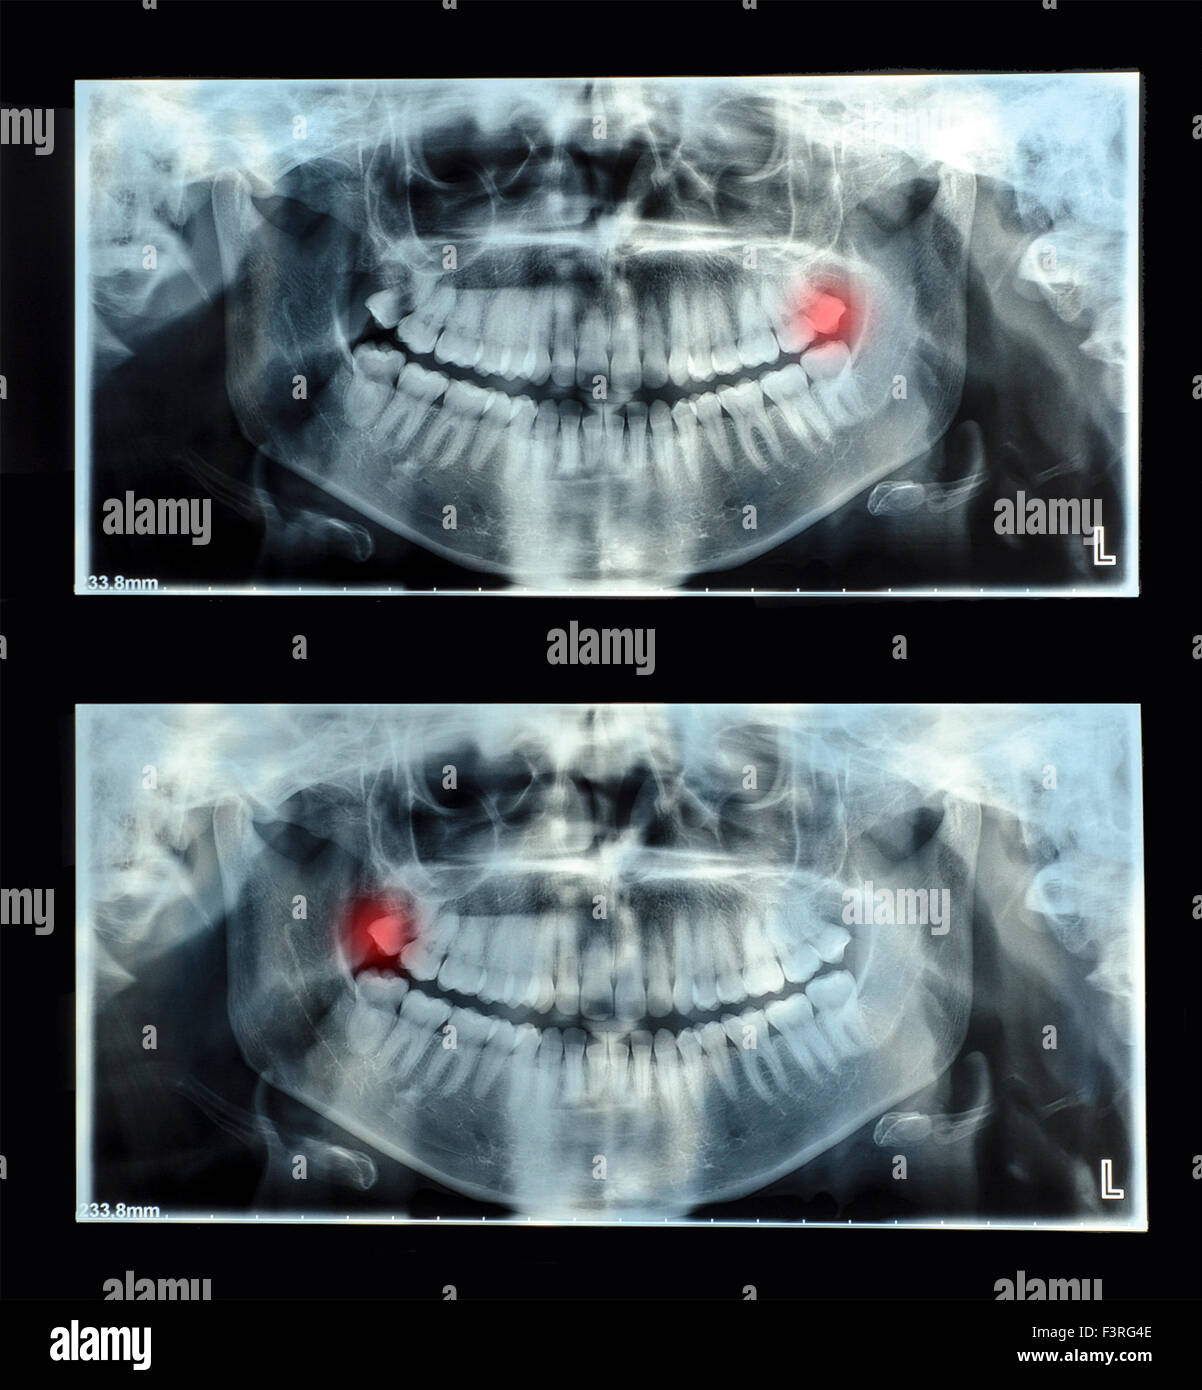canine: (524, 277, 555, 387), (645, 398, 676, 494), (668, 287, 693, 388), (531, 392, 559, 480)
incisor: (573, 254, 609, 400), (608, 277, 639, 395), (550, 261, 579, 389), (638, 282, 670, 388), (623, 398, 648, 499), (555, 392, 581, 480), (600, 400, 626, 483), (579, 394, 603, 485)
molar: (372, 361, 455, 452), (752, 366, 838, 453), (420, 374, 495, 469), (326, 343, 407, 431), (714, 379, 788, 468), (799, 340, 871, 431), (396, 280, 467, 355), (433, 291, 495, 372), (790, 268, 851, 347), (730, 291, 784, 366), (761, 282, 817, 355), (363, 277, 409, 330)
premolar: (468, 385, 522, 478), (690, 389, 733, 482), (511, 392, 542, 494), (708, 290, 741, 377), (671, 392, 701, 483), (689, 279, 714, 385)
